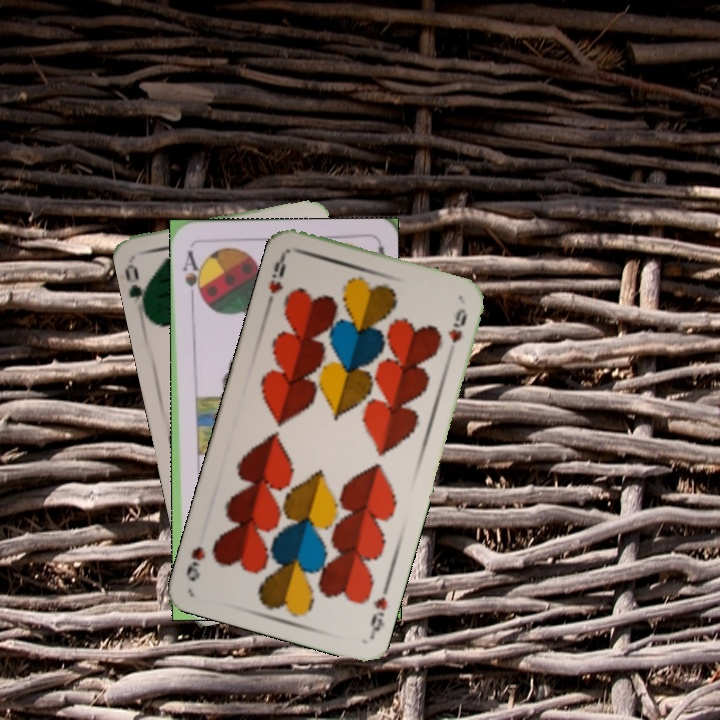GO: (122, 260, 153, 316)
H9: (263, 249, 289, 307), (366, 592, 390, 639)
SA: (179, 246, 204, 303)
